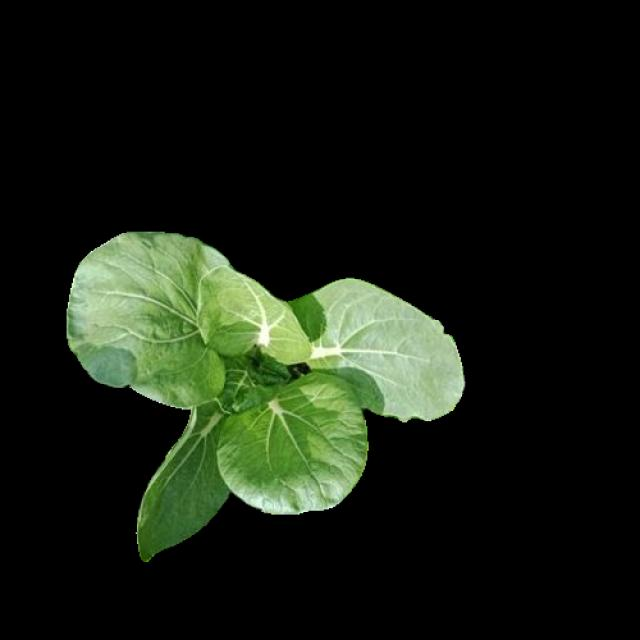healthy: (70, 247, 463, 571)
mature: (68, 236, 461, 560)
